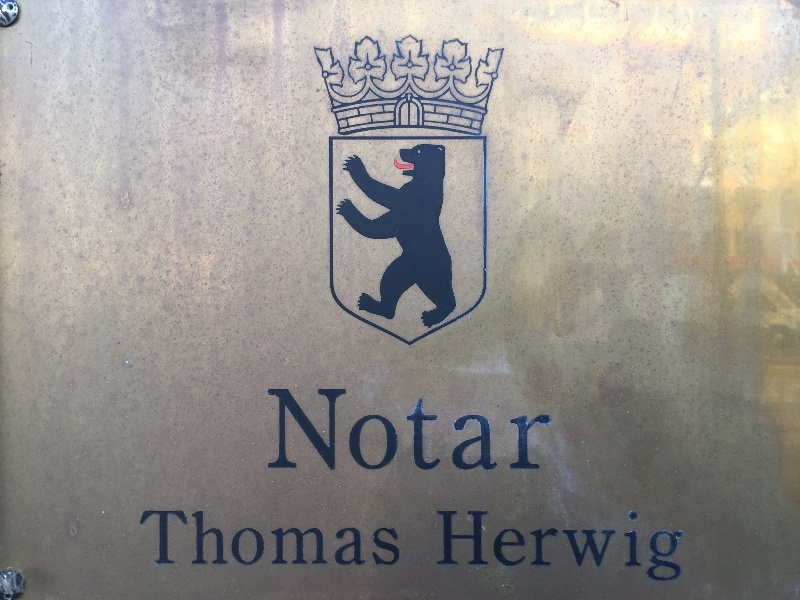text: (273, 390, 288, 471), (289, 390, 304, 471), (305, 390, 320, 471), (321, 390, 336, 471), (337, 390, 352, 471), (353, 390, 368, 471), (369, 390, 384, 471), (385, 390, 400, 471), (401, 390, 416, 471), (417, 390, 432, 471), (433, 390, 448, 471), (449, 390, 464, 471), (465, 390, 480, 471), (481, 390, 496, 471), (497, 390, 512, 471), (513, 390, 528, 471), (529, 390, 544, 471), (449, 511, 464, 584), (465, 511, 480, 584), (481, 511, 496, 584), (497, 511, 512, 584), (513, 511, 528, 584), (529, 511, 544, 584), (545, 511, 560, 584), (561, 511, 576, 584), (577, 511, 592, 584), (593, 511, 608, 584), (609, 511, 624, 584), (625, 511, 640, 584), (641, 511, 656, 584), (657, 511, 672, 584), (145, 511, 160, 567), (161, 511, 176, 567), (177, 511, 192, 567), (193, 511, 208, 567), (209, 511, 224, 567), (225, 511, 240, 567), (241, 511, 256, 567), (257, 511, 272, 567), (273, 511, 288, 567), (289, 511, 304, 567), (305, 511, 320, 567), (321, 511, 336, 567), (337, 511, 352, 567), (353, 511, 368, 567), (369, 511, 384, 567), (385, 511, 400, 567), (437, 511, 448, 584), (673, 511, 683, 584), (545, 390, 554, 471), (137, 511, 144, 567), (268, 390, 272, 471), (401, 511, 402, 567)
